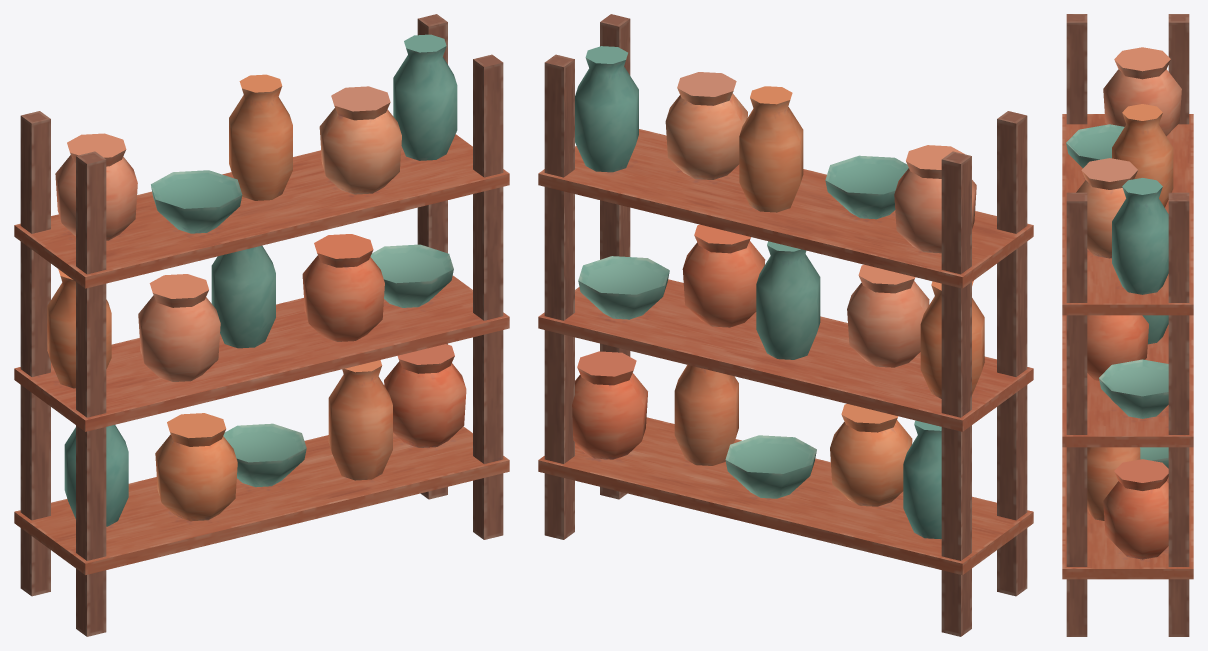
File: pot_rack.fbx
3 views of the same model, side by side, from view 1: azimuth 30°, elevation 25°; view 2: azimuth 150°, elevation 25°; view 3: azimuth 270°, elevation 25° (orthographic). The views are drawn at different scales.
Visible parts, largest first — view 1: pot_rack; view 2: pot_rack; view 3: pot_rack.
Part boxes in pixels (box(x1,y1,x2,y2)): pot_rack: box(14, 14, 509, 636); pot_rack: box(538, 14, 1033, 636); pot_rack: box(1062, 14, 1193, 636).
Size of the model in its own units: 6.2 by 6.6 by 1.8.
1 material, 1 textured.
